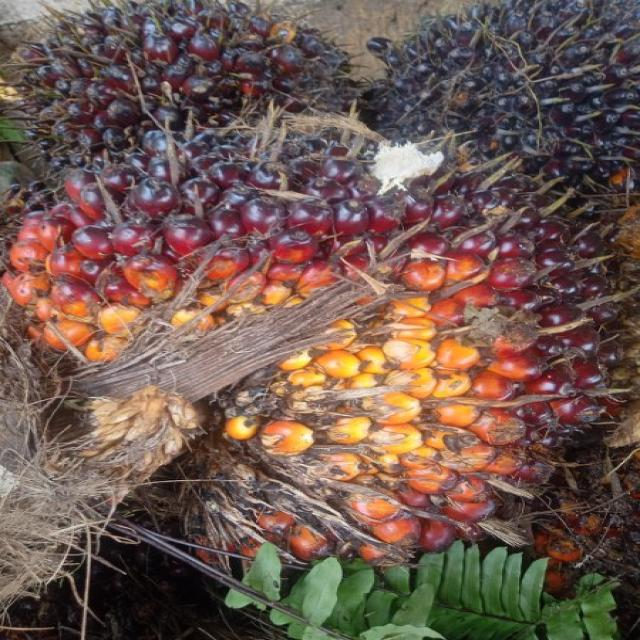fraksi 3: (41, 113, 611, 570)
